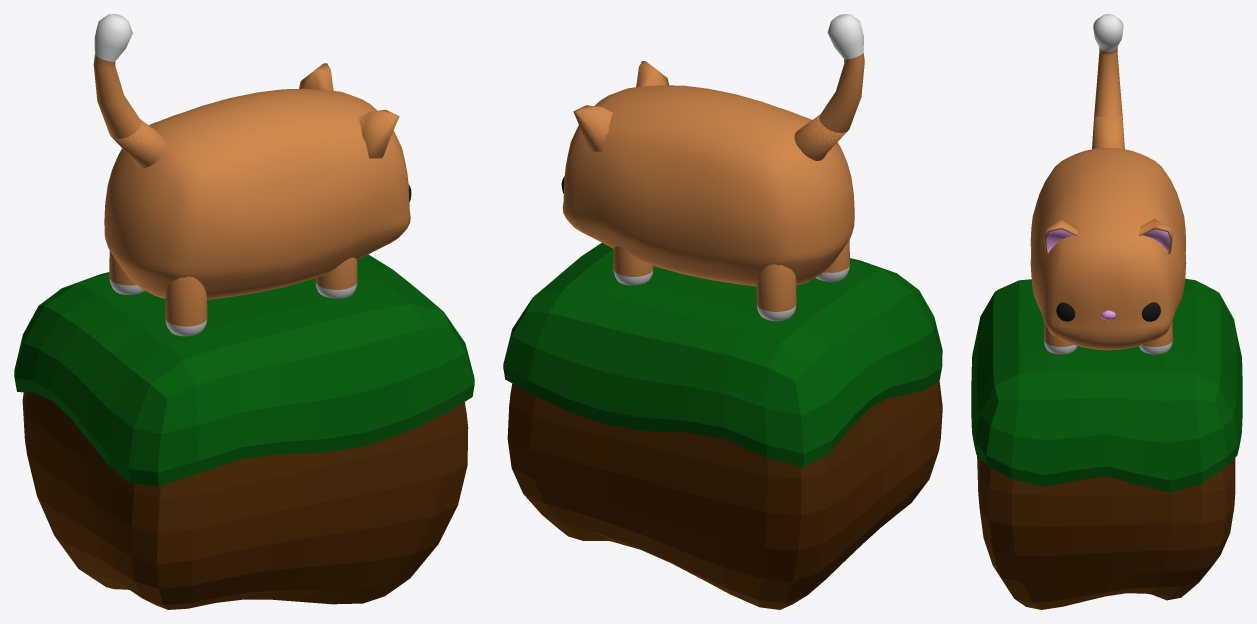
The model's file is cat on rock.fbx.
3 renders of one model, left to right at view 1: azimuth 30°, elevation 25°; view 2: azimuth 150°, elevation 25°; view 3: azimuth 270°, elevation 25°, orthographic. The views are drawn at different scales.
Visible parts, largest first — view 1: Cube.001, Roundcube.002, tail, legs, ears.001; view 2: Cube.001, Roundcube.002, tail, legs, ears.001; view 3: Cube.001, Roundcube.002, tail, ears.001, legs, eyes b.
Part boxes in pixels (left/top/right/bottom): Cube.001: left=14, top=254, right=474, bottom=609; Roundcube.002: left=104, top=88, right=410, bottom=299; tail: left=93, top=14, right=167, bottom=168; legs: left=109, top=250, right=357, bottom=336; ears.001: left=299, top=63, right=399, bottom=158; Cube.001: left=503, top=243, right=942, bottom=609; Roundcube.002: left=562, top=85, right=854, bottom=286; tail: left=794, top=14, right=864, bottom=160; legs: left=613, top=239, right=849, bottom=321; ears.001: left=573, top=61, right=668, bottom=151; Cube.001: left=971, top=278, right=1242, bottom=609; Roundcube.002: left=1030, top=148, right=1186, bottom=350; tail: left=1092, top=14, right=1124, bottom=149; ears.001: left=1044, top=218, right=1172, bottom=254; legs: left=1044, top=321, right=1172, bottom=354; eyes b: left=1056, top=302, right=1160, bottom=321.
Bounding box in the file's own units: 194 × 317 × 154.
